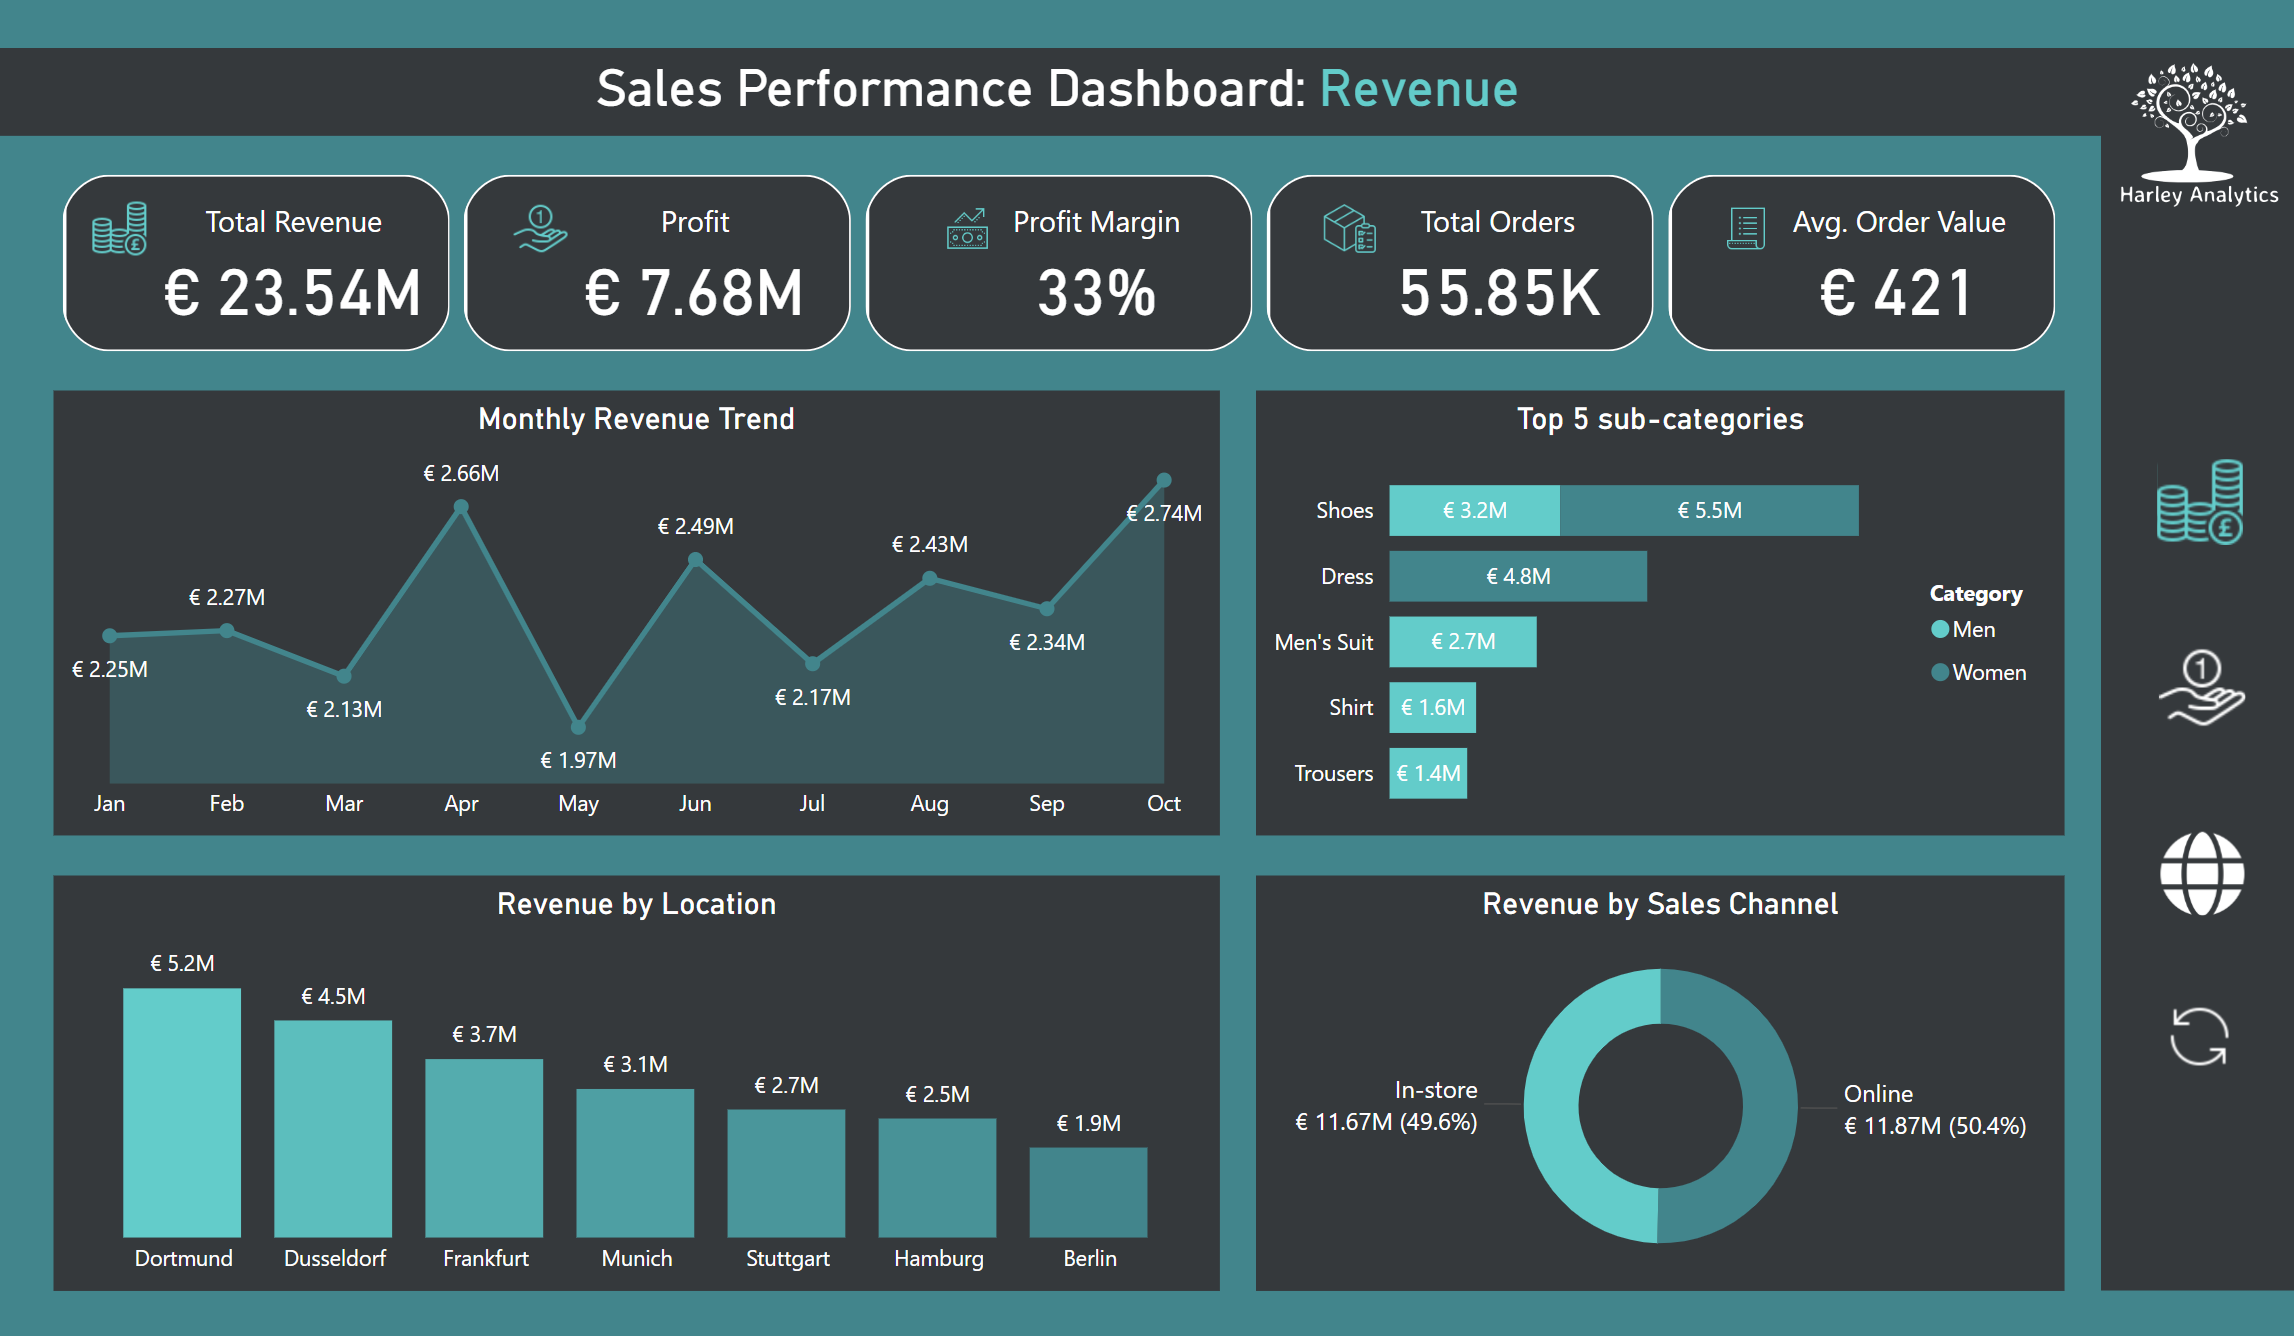

The dashboard page shown, as its layout file describes it:
{"tool":"powerbi","page":{"name":"Executive Summary","canvas":[1280,720],"ordinal":0},"visuals":[{"type":"cardVisual","fields":{"Data":["DAX Measures.TotalRevenue","DAX Measures.Profit","DAX Measures.ProfitMargin","DAX Measures.TotalOrders","DAX Measures.Avg. Order Value"]},"box":[32.5,64.9,1117.2,108.6],"z":0},{"type":"textbox","box":[0,0,1179.6,48.7],"z":1000},{"type":"lineChart","title":"Monthly Revenue Trend","fields":{"Category":["DateTable.Date Hierarchy.MonthName"],"Y":["DAX Measures.TotalRevenue"]},"box":[32.5,189.7,647.9,247.2],"z":2000},{"type":"columnChart","title":"Revenue by Location","fields":{"Category":["stores.Location"],"Y":["DAX Measures.TotalRevenue"]},"box":[32.5,459.4,647.9,230.9],"z":3000},{"type":"donutChart","title":"Revenue by Sales Channel","fields":{"Y":["DAX Measures.TotalRevenue"],"Category":["orders.SalesChannel"]},"box":[700.3,459.4,449.4,230.9],"z":4000},{"type":"barChart","title":"Top 5 sub-categories","fields":{"Y":["DAX Measures.TotalRevenue"],"Category":["product.SubCategory"],"Series":["product.Category"]},"box":[700.3,189.7,449.4,247.2],"z":5000},{"type":"shape","box":[1169.6,0,109.8,690.3],"z":6000},{"type":"image","box":[1169.6,0,109.8,96.1],"z":7000},{"type":"actionButton","box":[1169.6,216,109.8,73.6],"z":8000},{"type":"actionButton","box":[1170.2,318.7,109.8,74],"z":9000},{"type":"actionButton","box":[1170.2,421.8,109.8,72.7],"z":10000},{"type":"actionButton","box":[1168.9,523.6,109.8,51.6],"z":11000}]}

Visuals, with their boxes on the page's 1280x720 design canvas (x1, y1, x2, y2). These are canvas units, not pixel positions in the 2294x1336 screenshot, which may show the page scaled, cropped or inside an application window:
cardVisual - DAX Measures.TotalRevenue x DAX Measures.Profit: (left=32, top=65, right=1150, bottom=174)
textbox: (left=0, top=0, right=1180, bottom=49)
"Monthly Revenue Trend" lineChart: (left=32, top=190, right=680, bottom=437)
"Revenue by Location" columnChart: (left=32, top=459, right=680, bottom=690)
"Revenue by Sales Channel" donutChart: (left=700, top=459, right=1150, bottom=690)
"Top 5 sub-categories" barChart: (left=700, top=190, right=1150, bottom=437)
shape: (left=1170, top=0, right=1279, bottom=690)
image: (left=1170, top=0, right=1279, bottom=96)
actionButton: (left=1170, top=216, right=1279, bottom=290)
actionButton: (left=1170, top=319, right=1280, bottom=393)
actionButton: (left=1170, top=422, right=1280, bottom=494)
actionButton: (left=1169, top=524, right=1279, bottom=575)
